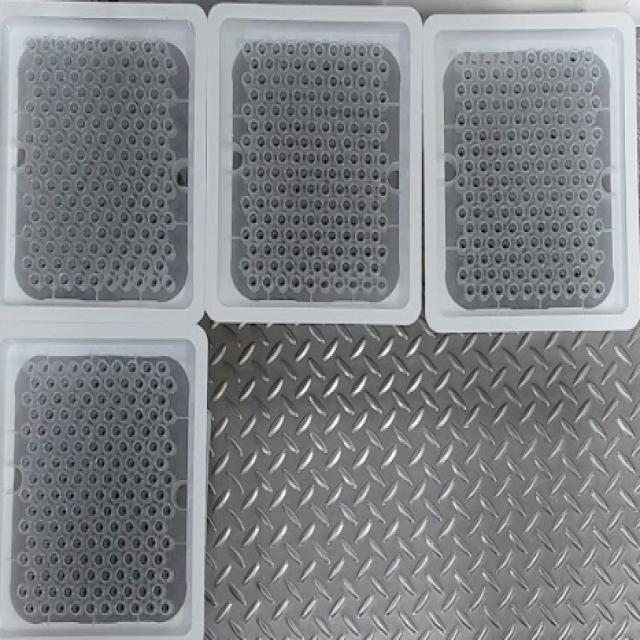vial: (246, 274, 260, 290), (130, 536, 144, 551), (162, 439, 175, 454), (18, 487, 31, 502), (156, 361, 169, 375), (71, 439, 84, 453), (164, 377, 176, 392), (154, 520, 166, 535), (22, 600, 34, 615), (71, 535, 82, 551), (275, 274, 286, 290), (546, 64, 559, 77), (18, 518, 29, 533), (249, 118, 260, 133), (508, 284, 518, 300), (82, 394, 94, 407), (102, 408, 114, 421), (110, 456, 122, 469), (146, 472, 158, 485), (146, 505, 158, 518), (356, 43, 368, 56), (131, 503, 142, 517), (261, 275, 272, 289), (110, 487, 120, 502), (161, 536, 171, 551), (160, 600, 170, 615), (100, 536, 112, 548), (16, 585, 28, 597), (491, 64, 500, 80), (332, 277, 344, 289), (141, 361, 152, 374), (155, 456, 166, 469), (124, 520, 135, 533), (18, 554, 29, 567), (470, 144, 481, 157), (558, 267, 569, 280), (378, 185, 389, 198), (375, 244, 386, 257), (319, 277, 330, 290), (54, 603, 64, 617), (269, 134, 279, 148), (290, 275, 300, 289), (130, 602, 139, 617), (119, 377, 130, 389), (140, 394, 152, 405), (74, 408, 85, 420), (79, 520, 91, 531), (49, 554, 60, 566), (138, 553, 149, 565), (154, 554, 165, 566), (462, 66, 474, 77), (362, 61, 374, 72), (270, 103, 281, 115), (240, 134, 251, 146), (376, 215, 388, 226), (240, 257, 251, 269), (134, 377, 144, 390), (149, 408, 159, 421), (161, 474, 171, 487), (140, 487, 150, 500), (71, 505, 81, 518), (146, 536, 156, 549), (26, 536, 36, 549), (131, 567, 141, 580), (71, 567, 81, 580), (145, 602, 155, 615), (85, 602, 95, 615), (534, 66, 544, 79), (535, 128, 545, 141), (499, 205, 509, 218), (458, 205, 468, 218), (492, 220, 502, 233), (472, 267, 482, 280), (458, 267, 468, 280), (256, 41, 266, 54), (240, 197, 250, 210), (298, 228, 308, 241), (240, 226, 250, 239), (328, 259, 338, 272), (284, 259, 294, 272), (494, 284, 502, 300), (515, 234, 524, 248), (326, 134, 335, 148), (285, 134, 294, 148), (140, 425, 151, 436), (550, 284, 561, 295), (271, 41, 282, 52), (271, 74, 282, 85), (90, 377, 100, 389), (59, 408, 69, 420), (148, 441, 158, 453), (95, 457, 105, 469), (88, 472, 98, 484), (132, 472, 144, 482), (79, 490, 89, 502), (56, 505, 66, 517), (26, 505, 38, 515), (108, 554, 118, 566), (100, 603, 110, 615), (478, 67, 488, 79), (549, 126, 559, 138), (549, 190, 559, 202), (306, 121, 316, 133), (264, 180, 274, 192), (278, 180, 288, 192), (262, 213, 272, 225), (275, 213, 285, 225), (262, 244, 272, 256), (291, 244, 301, 256), (269, 259, 279, 271), (126, 425, 135, 438), (116, 536, 125, 549), (146, 569, 155, 582), (500, 141, 509, 154), (480, 221, 489, 234), (595, 282, 604, 295), (286, 41, 295, 54), (241, 103, 250, 116), (349, 277, 358, 290), (361, 277, 370, 290), (126, 361, 136, 372), (148, 379, 159, 389), (104, 376, 114, 387), (81, 425, 92, 435), (140, 456, 150, 467), (125, 456, 135, 467), (50, 456, 60, 467), (125, 489, 135, 500), (95, 489, 105, 500), (65, 489, 75, 500), (50, 489, 60, 500), (36, 489, 46, 500), (140, 520, 150, 531), (25, 571, 35, 582), (520, 66, 530, 77), (518, 126, 529, 136), (522, 220, 532, 231), (479, 285, 489, 296), (328, 43, 338, 54), (242, 74, 252, 85), (285, 74, 295, 85), (264, 89, 274, 100), (292, 120, 302, 131), (241, 166, 251, 177), (299, 197, 309, 208), (255, 197, 265, 208), (296, 261, 306, 272), (375, 279, 385, 290), (29, 441, 38, 453), (102, 503, 111, 515), (65, 521, 74, 533), (79, 585, 88, 597), (122, 585, 131, 597), (40, 603, 49, 615), (506, 67, 515, 79), (529, 144, 538, 156), (536, 159, 545, 171), (499, 175, 508, 187), (486, 175, 495, 187), (492, 190, 501, 202), (521, 190, 530, 202), (572, 234, 581, 246), (349, 59, 358, 71), (321, 59, 330, 71), (306, 59, 315, 71), (300, 72, 309, 84), (350, 90, 359, 102), (256, 103, 265, 115), (336, 121, 345, 133), (279, 121, 288, 133), (256, 134, 265, 146), (335, 152, 344, 164), (379, 152, 388, 164), (355, 167, 364, 179), (312, 167, 321, 179), (292, 213, 301, 225), (349, 244, 358, 256), (255, 259, 264, 271), (305, 275, 314, 287), (68, 392, 76, 405), (300, 43, 308, 56), (270, 226, 278, 239), (98, 361, 108, 371), (134, 408, 144, 418), (155, 425, 165, 435), (51, 425, 61, 435), (44, 408, 54, 418), (96, 425, 106, 435), (104, 441, 114, 451), (36, 457, 46, 467), (42, 472, 52, 482), (29, 474, 39, 484), (58, 472, 68, 482), (160, 503, 170, 513), (50, 521, 60, 531), (56, 536, 66, 546), (94, 554, 104, 564), (550, 159, 560, 169), (542, 175, 552, 185), (569, 51, 579, 61), (355, 200, 365, 210), (305, 246, 315, 256), (82, 361, 91, 372), (112, 361, 121, 372), (120, 410, 129, 421), (154, 489, 165, 498), (109, 520, 118, 531), (42, 538, 51, 549), (86, 569, 95, 580), (55, 571, 64, 582), (471, 84, 482, 93), (499, 82, 508, 93), (571, 143, 580, 154), (479, 130, 488, 141), (456, 146, 465, 157), (515, 174, 524, 185), (579, 189, 588, 200), (586, 205, 595, 216), (530, 238, 539, 249), (492, 251, 501, 262), (581, 251, 590, 262), (595, 251, 604, 262), (580, 282, 589, 293), (465, 284, 474, 295), (292, 89, 301, 100), (371, 138, 380, 149), (371, 169, 380, 180), (335, 182, 344, 193), (349, 215, 358, 226), (355, 230, 364, 241), (255, 228, 264, 239), (341, 261, 350, 272), (44, 441, 52, 453), (118, 505, 126, 517), (88, 505, 96, 517), (34, 554, 42, 566), (64, 554, 72, 566), (64, 587, 72, 599), (138, 585, 146, 597), (71, 605, 79, 617), (514, 113, 522, 125), (508, 190, 516, 202), (372, 44, 380, 56), (372, 75, 380, 87), (380, 90, 388, 102), (364, 90, 372, 102), (350, 121, 358, 133), (264, 121, 272, 133), (321, 152, 329, 164), (342, 198, 350, 210), (278, 244, 286, 256), (334, 244, 342, 256), (115, 602, 122, 615), (126, 392, 135, 402), (96, 394, 106, 403), (111, 394, 121, 403), (162, 410, 171, 420), (119, 441, 128, 451), (89, 441, 98, 451), (35, 521, 44, 531), (80, 554, 89, 564), (161, 569, 170, 579), (40, 571, 50, 580), (152, 585, 161, 595), (585, 143, 595, 152), (556, 144, 565, 154), (492, 161, 501, 171), (521, 161, 530, 171), (576, 157, 585, 167), (570, 174, 579, 184), (556, 174, 565, 184), (471, 177, 480, 187), (479, 192, 488, 202), (565, 221, 574, 231), (579, 218, 588, 228), (586, 236, 596, 245), (501, 239, 510, 249), (522, 253, 532, 262), (572, 267, 581, 277), (501, 267, 510, 277), (279, 59, 288, 69), (250, 59, 259, 69), (256, 74, 265, 84), (245, 149, 254, 159), (361, 154, 370, 164), (371, 200, 380, 210), (320, 215, 329, 225), (320, 246, 329, 256), (124, 553, 132, 564), (101, 569, 109, 580), (458, 115, 466, 126), (564, 128, 572, 139), (551, 220, 559, 231), (594, 220, 602, 231), (472, 238, 480, 249), (508, 253, 516, 264), (566, 251, 574, 262), (488, 269, 496, 280), (242, 41, 250, 52), (314, 74, 322, 85), (308, 89, 316, 100), (280, 87, 288, 98), (328, 105, 336, 116), (372, 107, 380, 118), (264, 151, 272, 162), (278, 151, 286, 162), (248, 182, 256, 193), (321, 182, 329, 193), (246, 212, 254, 223), (328, 230, 336, 241), (284, 228, 292, 239), (479, 98, 486, 110), (528, 113, 535, 125), (515, 144, 522, 156), (458, 175, 465, 187), (509, 221, 516, 233), (538, 221, 545, 233), (459, 236, 466, 248), (344, 44, 351, 56), (344, 75, 351, 87), (338, 90, 345, 102), (315, 136, 322, 148), (299, 134, 306, 146), (299, 167, 306, 179), (364, 244, 371, 256), (80, 457, 89, 466), (492, 130, 501, 139), (472, 207, 481, 216), (350, 184, 359, 193), (90, 410, 98, 420), (68, 425, 76, 435), (134, 441, 142, 451), (60, 441, 68, 451), (66, 456, 74, 466), (72, 472, 82, 480), (104, 472, 112, 482), (34, 587, 42, 597), (94, 587, 102, 597), (470, 115, 480, 123), (486, 115, 494, 125), (498, 113, 506, 123), (464, 130, 472, 140), (586, 174, 594, 184), (528, 175, 536, 185), (528, 205, 536, 215), (464, 221, 472, 231), (486, 238, 494, 248), (480, 254, 488, 264), (588, 267, 596, 277), (530, 267, 538, 277), (336, 59, 344, 69), (294, 59, 302, 69), (264, 59, 272, 69), (328, 74, 336, 84), (322, 90, 330, 100), (300, 105, 308, 115), (378, 121, 386, 131), (321, 121, 329, 131), (292, 152, 300, 162), (308, 152, 316, 162), (350, 152, 358, 162), (342, 169, 350, 179), (270, 195, 278, 205), (362, 215, 370, 225), (371, 231, 379, 241), (371, 262, 379, 272), (155, 395, 166, 402), (458, 84, 465, 95), (558, 205, 565, 216), (488, 207, 495, 218), (344, 107, 351, 118), (258, 166, 265, 177), (364, 184, 371, 195), (314, 230, 321, 241), (355, 261, 362, 272), (314, 261, 321, 272), (88, 538, 96, 547), (116, 571, 124, 580), (486, 84, 494, 93), (506, 98, 514, 107), (465, 98, 471, 110), (572, 207, 580, 216), (358, 75, 364, 87), (364, 123, 372, 132), (271, 166, 279, 175), (342, 230, 350, 239), (112, 425, 119, 435), (119, 474, 126, 484), (44, 505, 51, 515), (109, 585, 116, 595), (544, 144, 551, 154), (465, 161, 472, 171), (479, 161, 486, 171), (508, 161, 515, 171), (565, 159, 572, 169), (594, 159, 601, 169), (465, 192, 472, 202), (565, 190, 572, 200), (465, 254, 472, 264), (565, 284, 572, 294), (328, 167, 335, 177), (314, 200, 321, 210), (285, 198, 292, 208), (305, 213, 312, 223), (335, 215, 342, 225), (524, 284, 530, 295), (578, 128, 586, 136), (486, 146, 494, 154), (544, 207, 552, 215), (558, 236, 566, 244), (356, 105, 364, 113), (291, 182, 299, 190), (514, 84, 521, 93), (491, 97, 498, 106), (544, 113, 551, 122), (508, 130, 515, 139), (515, 207, 522, 216), (538, 253, 545, 262), (538, 284, 545, 293), (314, 43, 321, 52), (249, 89, 256, 98), (285, 105, 292, 114), (315, 107, 322, 116), (538, 190, 544, 200), (545, 269, 551, 279), (380, 61, 386, 71), (308, 182, 314, 192), (95, 520, 102, 528), (545, 236, 550, 247), (594, 189, 600, 198), (518, 269, 524, 278), (286, 167, 291, 177), (48, 587, 54, 595), (552, 253, 560, 259), (344, 138, 350, 146), (328, 197, 334, 205), (358, 138, 364, 145), (248, 244, 252, 254)
